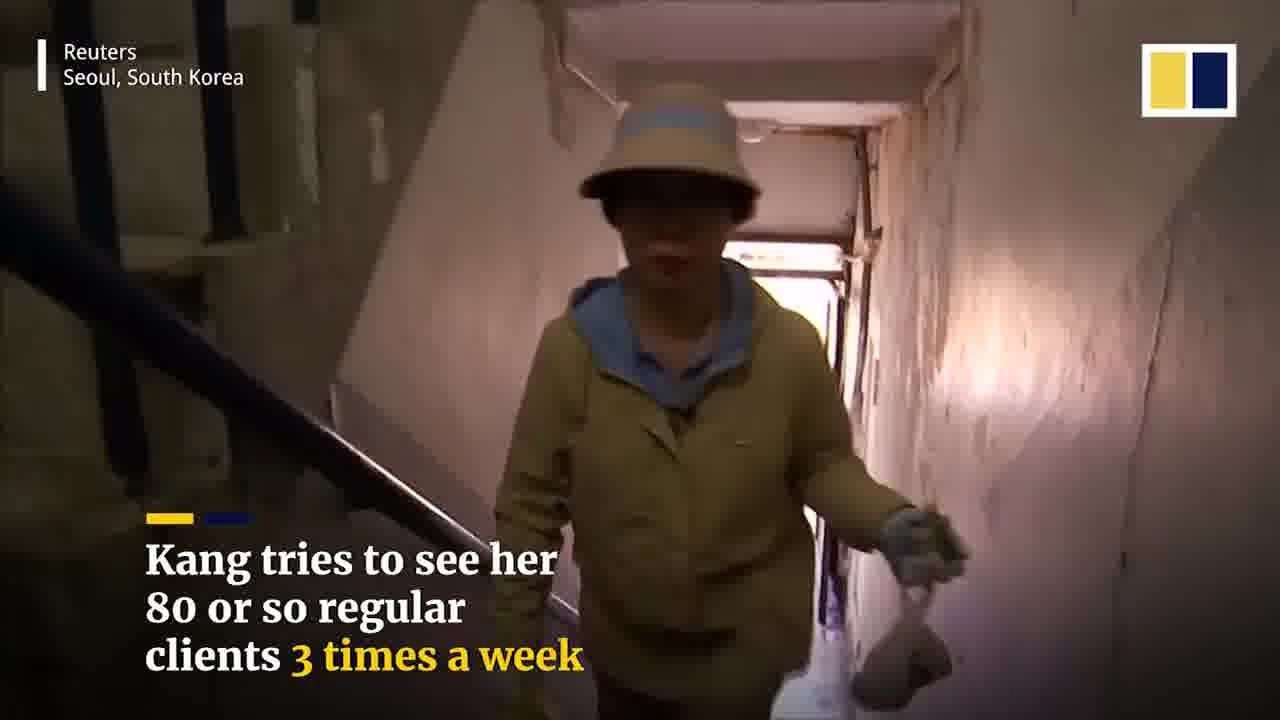Yakurut: (486, 91, 982, 720)
